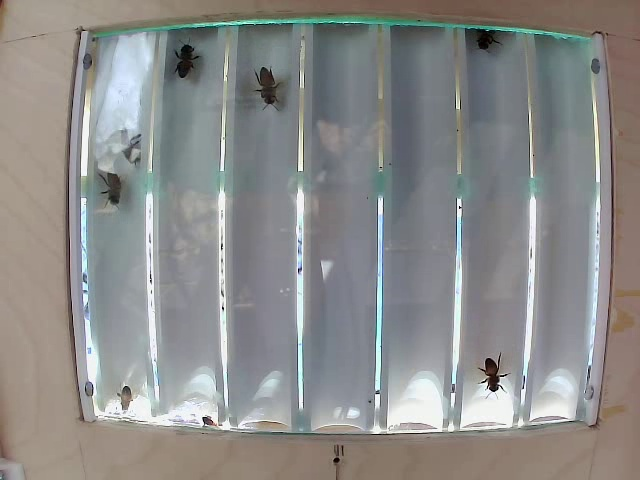bee: (172, 43, 209, 103), (90, 155, 131, 209), (243, 67, 282, 108), (483, 24, 505, 63)
